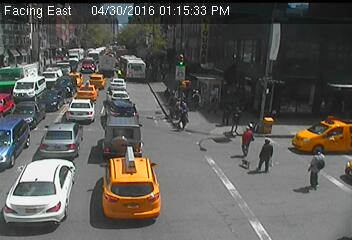pos: (300, 143, 337, 193), (254, 134, 283, 172), (233, 122, 261, 159)
